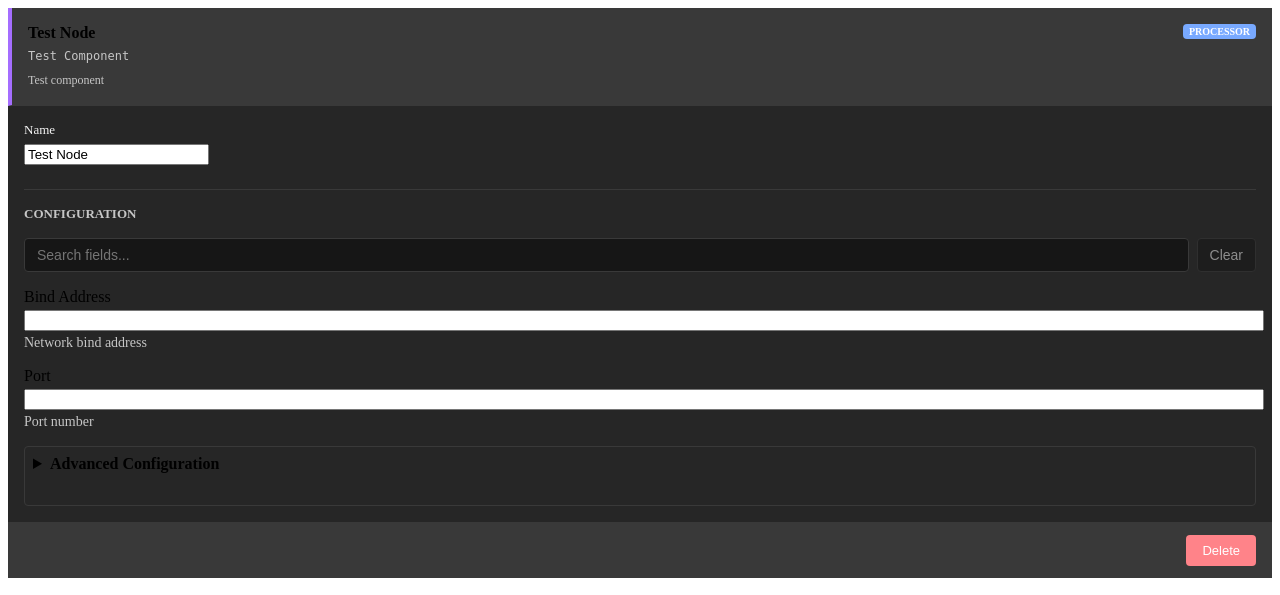
Test: PropertiesPanel - Search/Filter › should reset filter when clear button clicked
This screenshot has width=1280, height=595.
In the field with test id "field-search": (606, 255) top-left (24, 238), bottom-right (1188, 272), type "port"
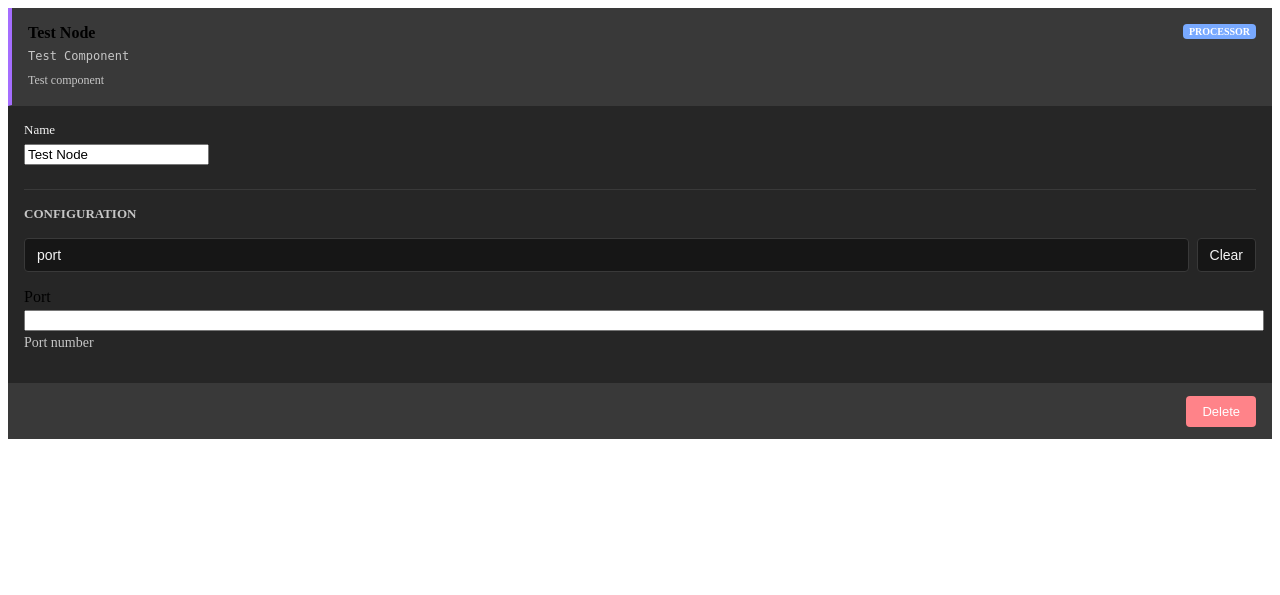
Check: the label with id "bind_address" is gone
Click clear
Click the button with test id "clear-search": (1226, 255) top-left (1196, 238), bottom-right (1256, 272)
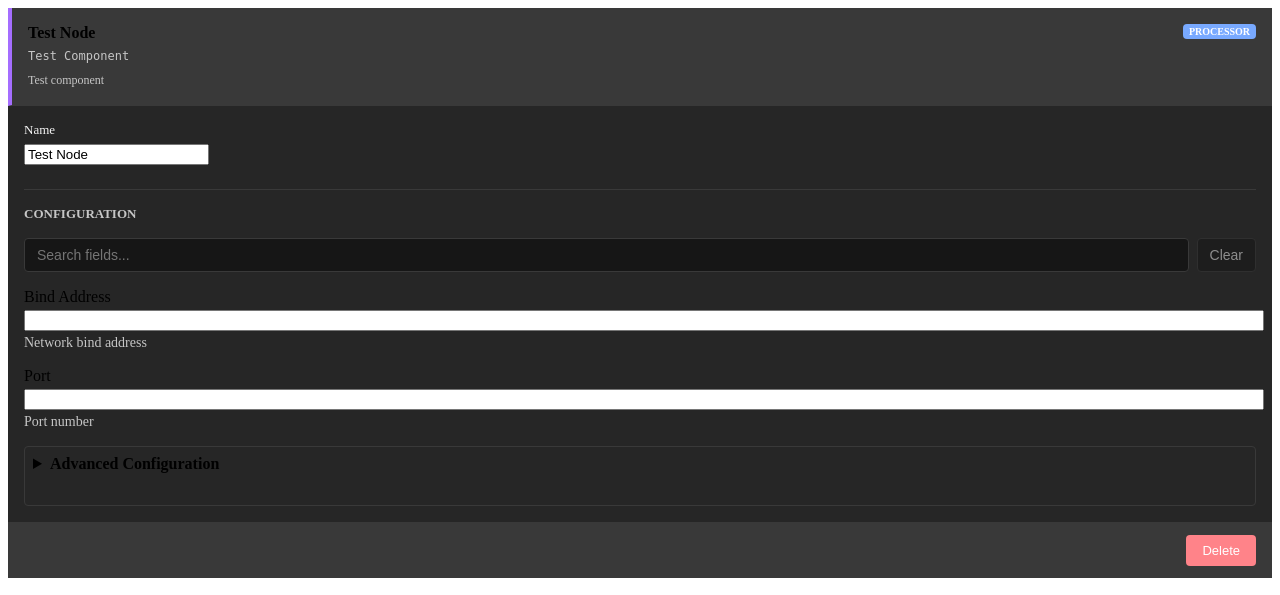
Check: the number field labelled "Port" is shown, box top-left (24, 389), bottom-right (1264, 410)
Check: the field with test id "field-search" is empty, box top-left (24, 238), bottom-right (1188, 272)
